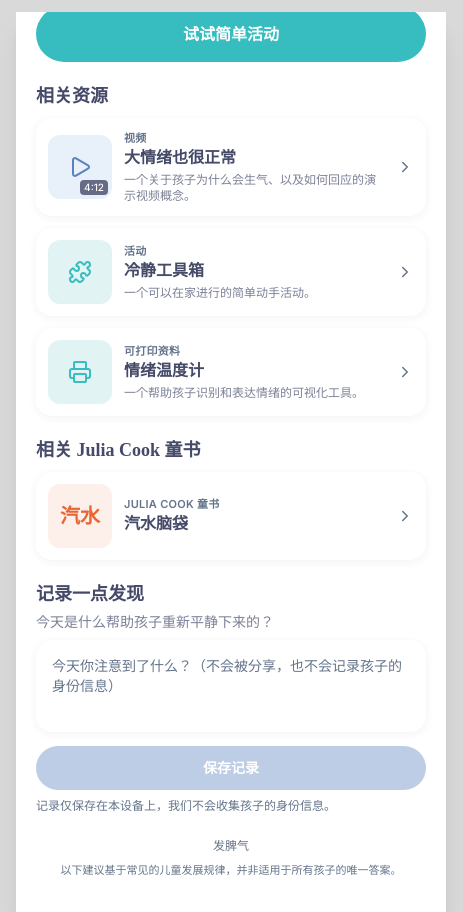
Test: SituationPage › lets a parent save and see a reflection note
(page scrolled)
In the text box with placeholder "今天你注意到了什么？（不会被分享，也不会记录孩子的身份信息）": (231, 686) 36,640 -> 426,732, type "今天试了新的说法"
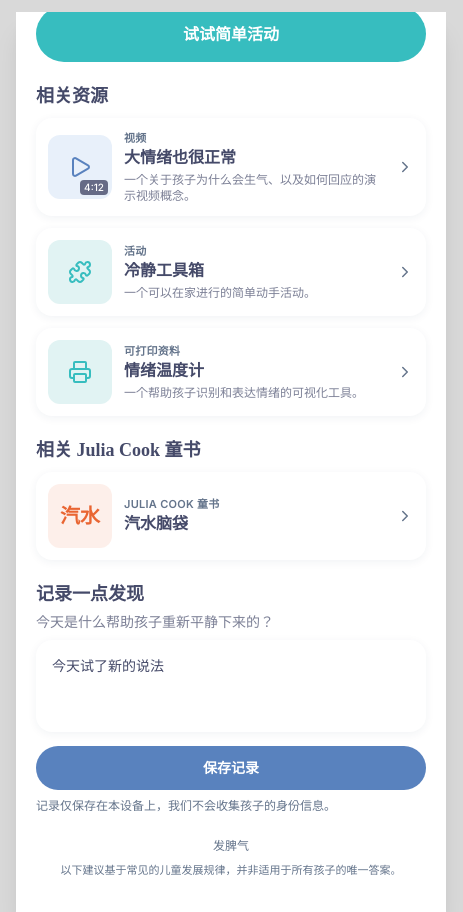
Click the button "保存记录": (231, 768) 36,746 -> 426,790
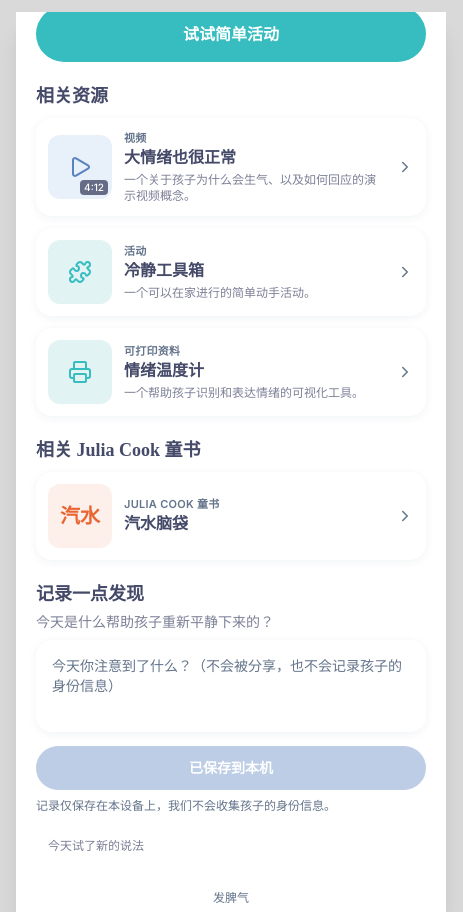
Check: the list item "今天试了新的说法" is shown, box 36,826 -> 426,866
